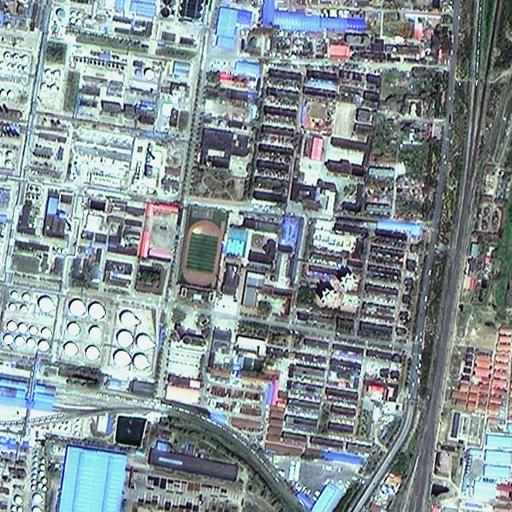school: (179, 203, 298, 316), (287, 98, 363, 209)
